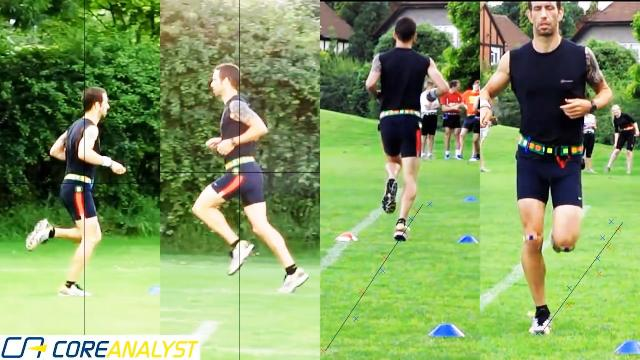berlari: (480, 0, 614, 348), (168, 58, 314, 300), (21, 80, 130, 302), (360, 13, 452, 251)
